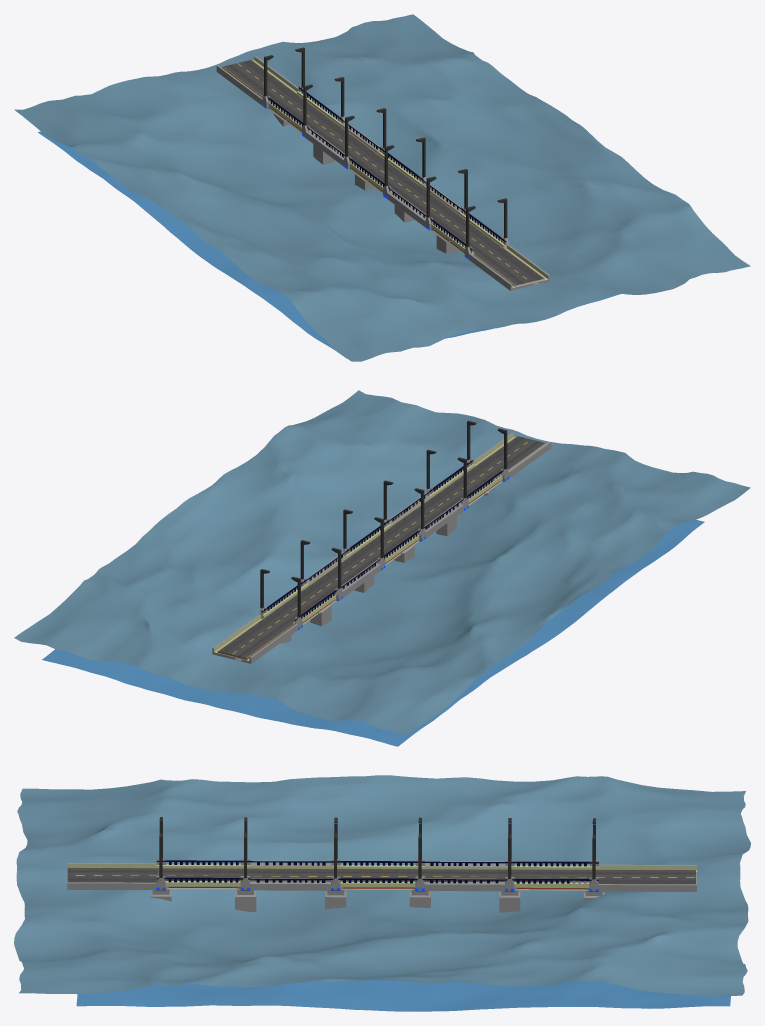
Rendered from bidge.fbx.
3 views of the same model, one above another, from view 1: azimuth 30°, elevation 25°; view 2: azimuth 150°, elevation 25°; view 3: azimuth 270°, elevation 25° (orthographic). The views are drawn at different scales.
Parts seen in each view (by area): view 1: Plane, Plane.001, Cube.003_Cube.004, Cube.000_Cube.010, Cube.006_Cube.008, Cube.008_Cube.000, Cube.009_Cube.001, Cube.004_Cube.005, Cube.005_Cube.017, Cube.001_Cube.015, Cube.002_Cube.016, Cube.007_Cube.009; view 2: Plane, Plane.001, Cube.000_Cube.010, Cube.003_Cube.004, Cube.006_Cube.008, Cube.009_Cube.001, Cube.008_Cube.000, Cube.005_Cube.017, Cube.001_Cube.015, Cube.007_Cube.009, Cube.002_Cube.016, Cube.004_Cube.005; view 3: Plane, Plane.001, Cube.000_Cube.010, Cube.003_Cube.004, Cube.006_Cube.008, Cube.009_Cube.001, Cube.008_Cube.000, Cube.001_Cube.015, Cube.005_Cube.017, Cube.002_Cube.016, Cube.007_Cube.009, Cube.004_Cube.005.
Boxes of the visible parts, x1,y1,x2,y2 form: Plane: (14, 14, 750, 361); Plane.001: (38, 131, 621, 358); Cube.003_Cube.004: (387, 169, 550, 290); Cube.000_Cube.010: (216, 47, 379, 166); Cube.006_Cube.008: (343, 108, 426, 222); Cube.008_Cube.000: (474, 247, 544, 287); Cube.009_Cube.001: (222, 59, 293, 97); Cube.004_Cube.005: (435, 215, 501, 253); Cube.005_Cube.017: (270, 91, 335, 128); Cube.001_Cube.015: (353, 153, 418, 190); Cube.002_Cube.016: (312, 122, 376, 159); Cube.007_Cube.009: (395, 185, 459, 222); Plane: (14, 390, 750, 735); Plane.001: (42, 519, 704, 746); Cube.000_Cube.010: (212, 540, 380, 663); Cube.003_Cube.004: (389, 420, 551, 538); Cube.006_Cube.008: (342, 480, 425, 592); Cube.009_Cube.001: (217, 620, 289, 659); Cube.008_Cube.000: (474, 436, 546, 472); Cube.005_Cube.017: (261, 589, 327, 627); Cube.001_Cube.015: (346, 527, 413, 564); Cube.007_Cube.009: (390, 497, 456, 533); Cube.002_Cube.016: (304, 559, 370, 595); Cube.004_Cube.005: (431, 467, 497, 502); Plane: (14, 775, 750, 996); Plane.001: (76, 979, 730, 1011); Cube.000_Cube.010: (423, 818, 697, 912); Cube.003_Cube.004: (67, 817, 331, 911); Cube.006_Cube.008: (325, 817, 430, 909); Cube.009_Cube.001: (605, 869, 695, 884); Cube.008_Cube.000: (67, 867, 158, 882); Cube.001_Cube.015: (337, 868, 426, 881); Cube.005_Cube.017: (516, 869, 605, 883); Cube.002_Cube.016: (426, 869, 516, 881); Cube.007_Cube.009: (250, 868, 333, 881); Cube.004_Cube.005: (159, 868, 249, 881).
Bounding box in the file's own units: 16066 × 3328 × 23981.
15 materials, 2 textured.
